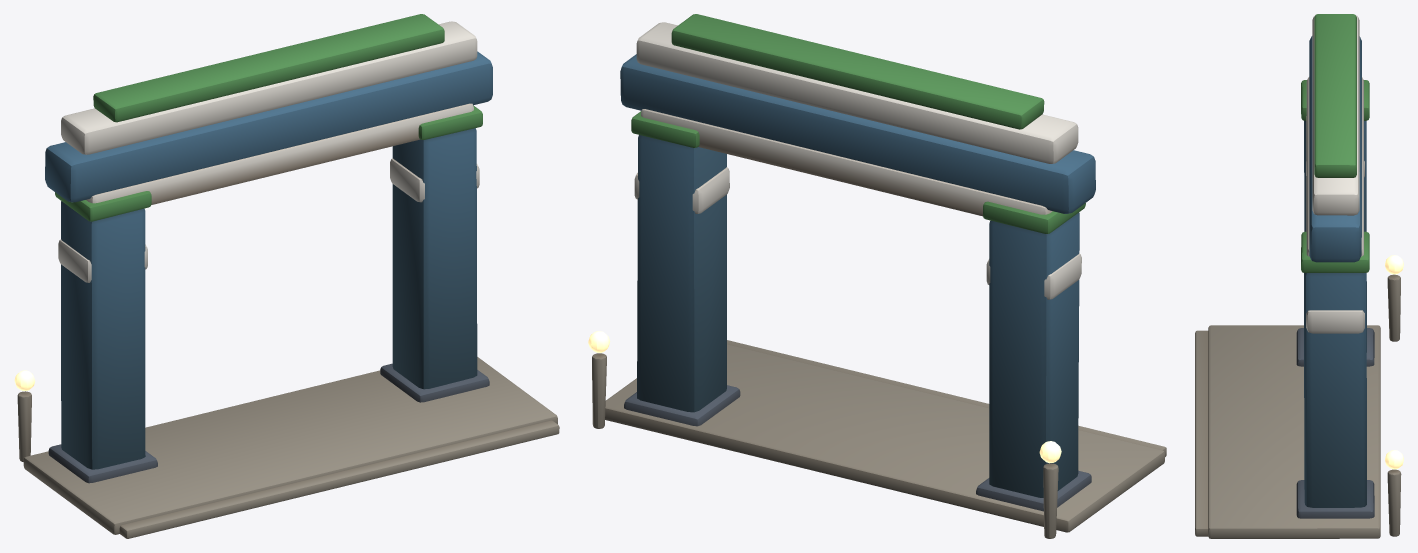
The picture shows the model from 3 angles, left to right: view 1: azimuth 30°, elevation 25°; view 2: azimuth 150°, elevation 25°; view 3: azimuth 270°, elevation 25°; orthographic projection. The views are drawn at different scales.
Parts seen in each view (by area): view 1: gate_f244f930; view 2: gate_f244f930; view 3: gate_f244f930.
Boxes of the visible parts, x1,y1,x2,y2 form: gate_f244f930: (14,14,559,538); gate_f244f930: (588,14,1166,538); gate_f244f930: (1195,14,1403,538).
Bounding box in the file's own units: 5.89 × 4.71 × 2.55.
